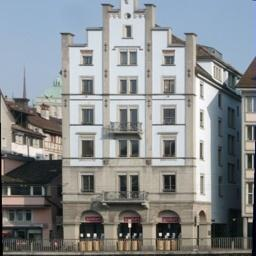building: (60, 0, 195, 255)
